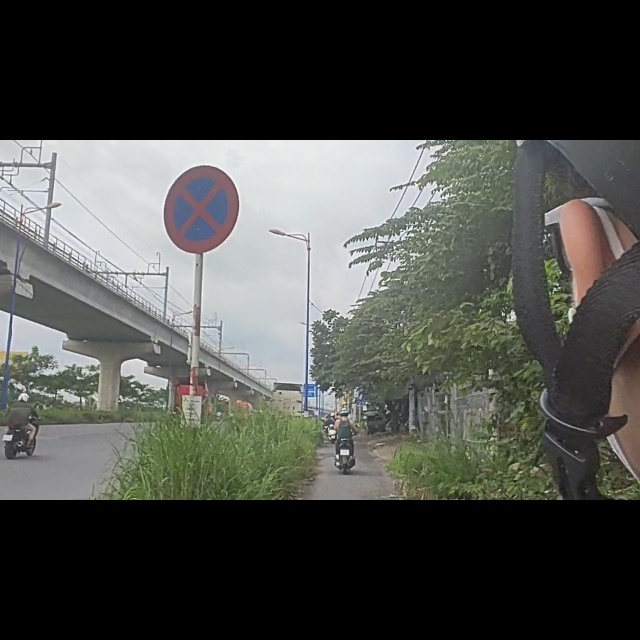bien_cam: (161, 44, 245, 210)
